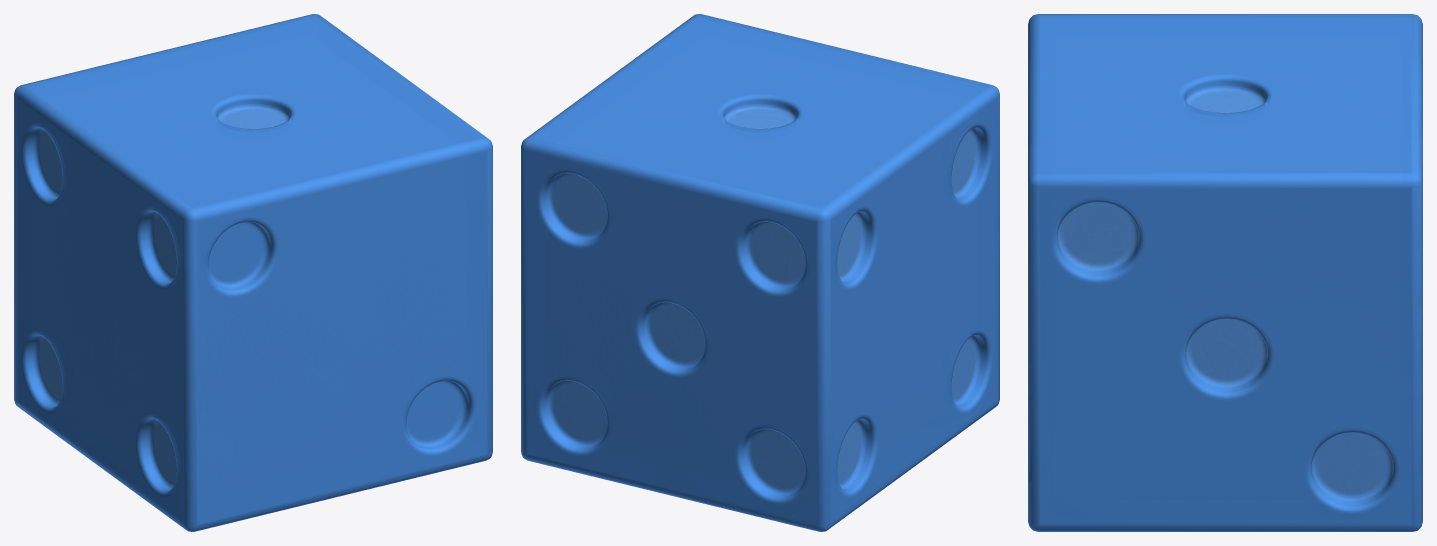
Rendered from Dice.fbx.
3 views of the same model, side by side, from view 1: azimuth 30°, elevation 25°; view 2: azimuth 150°, elevation 25°; view 3: azimuth 270°, elevation 25° (orthographic). The views are drawn at different scales.
Visible parts, largest first — view 1: Cube; view 2: Cube; view 3: Cube.
Boxes of the visible parts, x1,y1,x2,y2 form: Cube: [14, 14, 492, 531]; Cube: [521, 14, 999, 531]; Cube: [1028, 14, 1422, 531].
Bounding box in the file's own units: 200 × 200 × 200.
